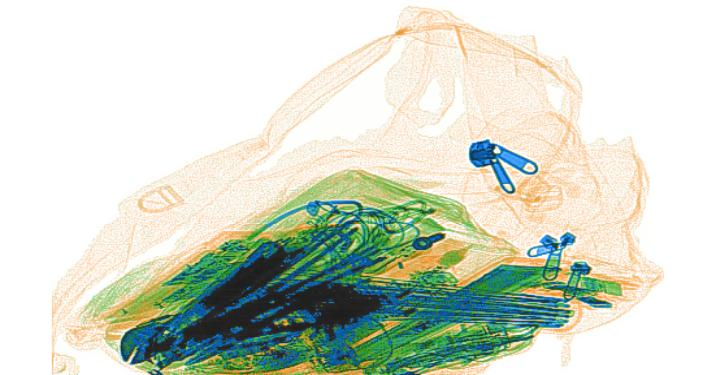USBFlashDisk: (576, 272, 623, 295)
